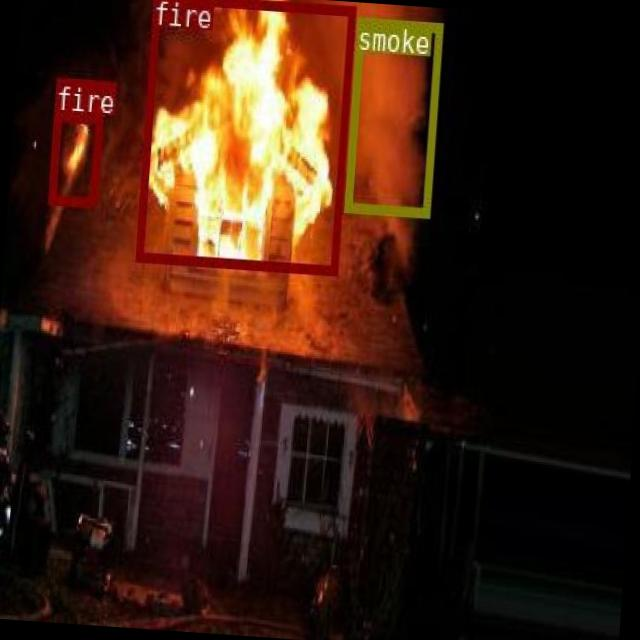fire: (135, 0, 354, 272), (46, 110, 102, 204)
smoke: (343, 17, 442, 215)
